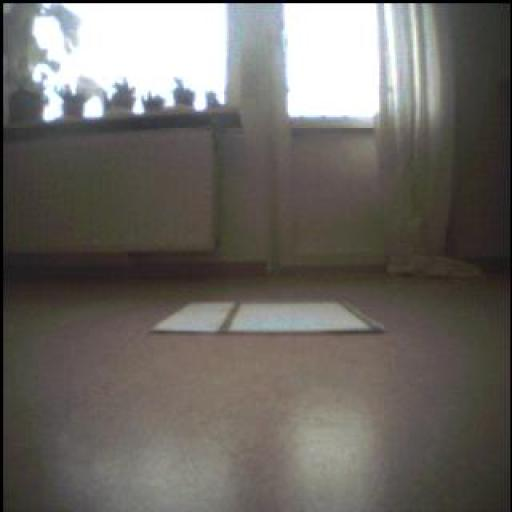Pad: (152, 300, 386, 334)
